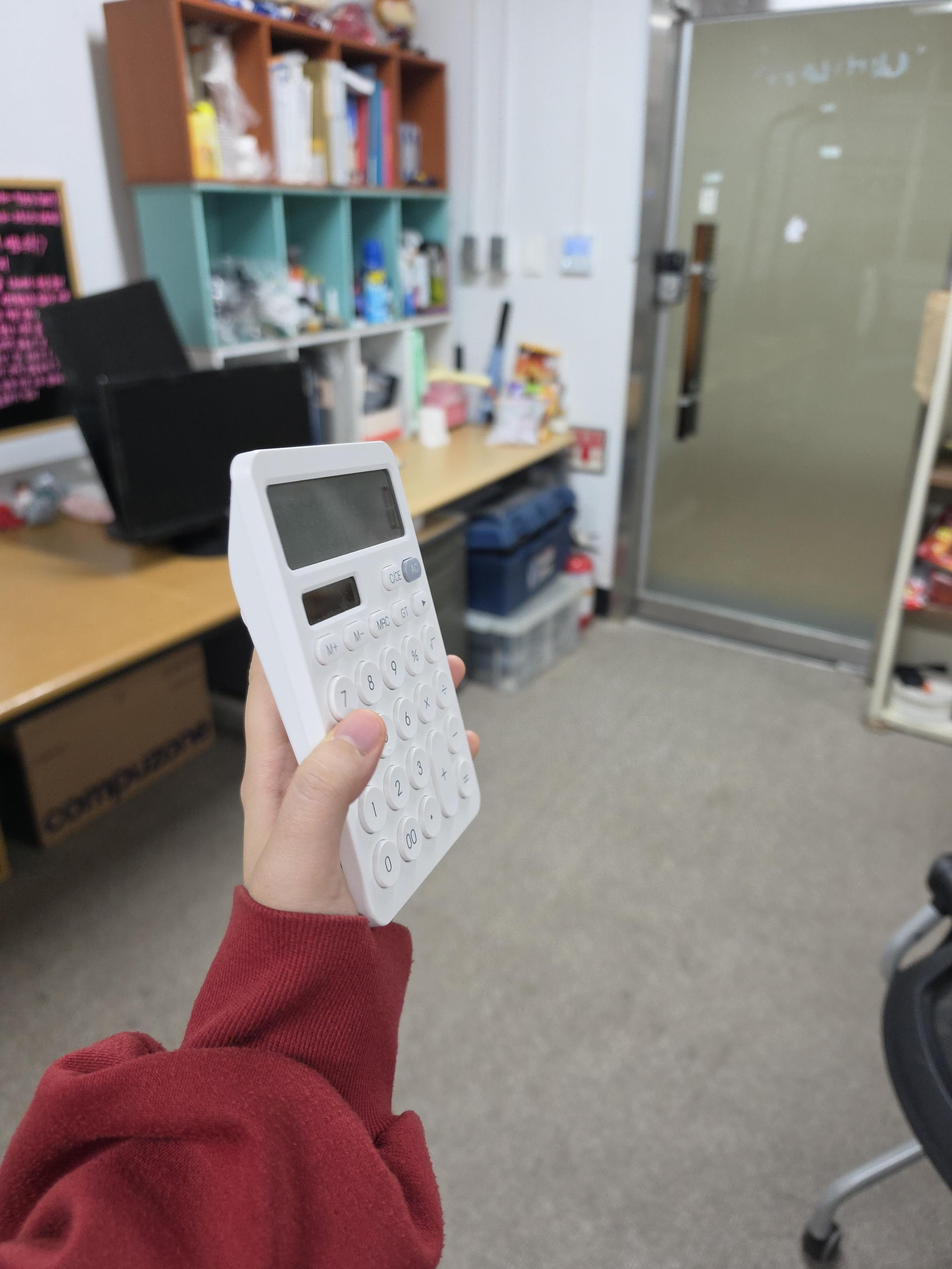calculator: (228, 441, 481, 928)
